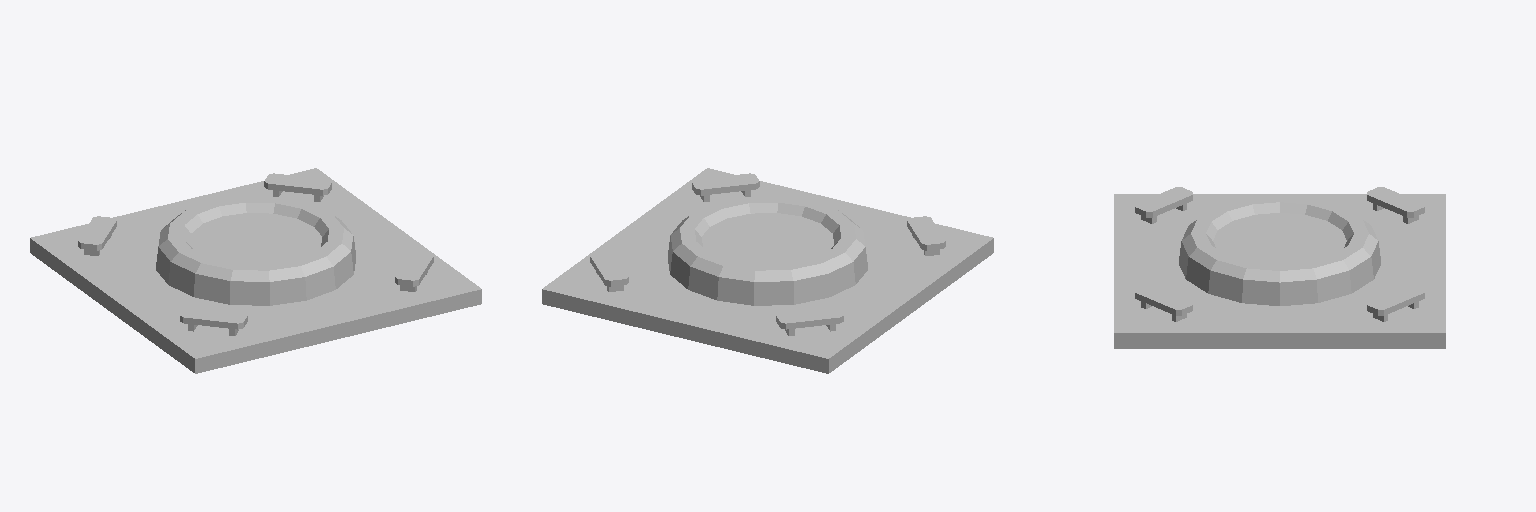
File: park_road_junction_decorated_C.obj
The picture shows the model from 3 angles: view 1: azimuth 30°, elevation 25°; view 2: azimuth 150°, elevation 25°; view 3: azimuth 270°, elevation 25°; orthographic projection.
Parts seen in each view (by area): view 1: park_road_junction_decorated_C_Cube.14220; view 2: park_road_junction_decorated_C_Cube.14220; view 3: park_road_junction_decorated_C_Cube.14220.
Part boxes in pixels (left/top/right/bottom): park_road_junction_decorated_C_Cube.14220: left=30, top=168, right=481, bottom=373; park_road_junction_decorated_C_Cube.14220: left=542, top=168, right=993, bottom=373; park_road_junction_decorated_C_Cube.14220: left=1114, top=187, right=1445, bottom=348.
Size of the model in its own units: 2 by 0.3 by 2.